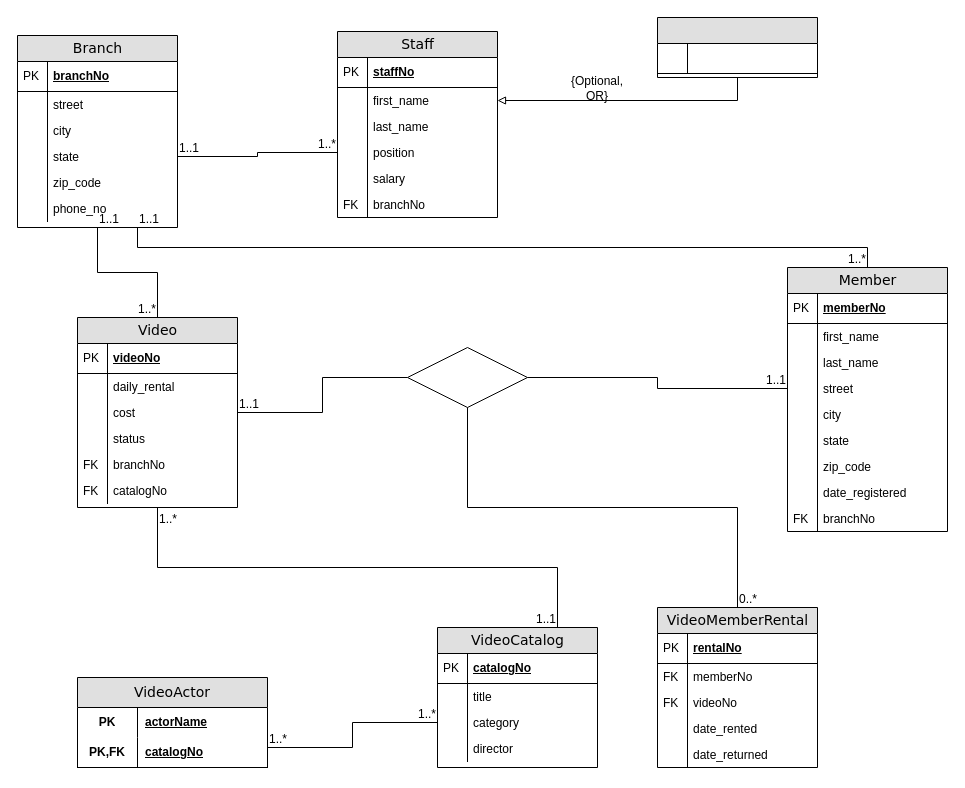
Image size: 965x788. Some labels were removed from this diagram. Here are the shapes that lost their labels. From the top down, the centre of each, then its label:
(x=737, y=47): Manager
(x=467, y=377): Rent
